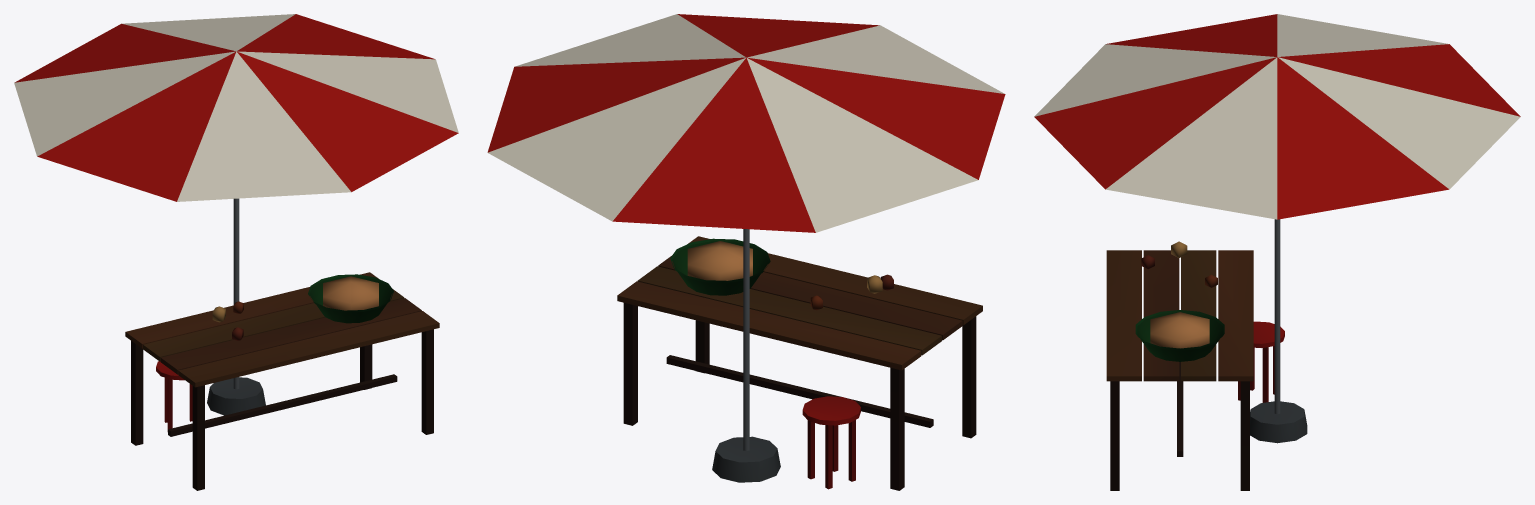
Rendered from mk_stall_umbrella_lod1.glb.
The picture shows the model from 3 angles, left to right: view 1: azimuth 30°, elevation 25°; view 2: azimuth 150°, elevation 25°; view 3: azimuth 270°, elevation 25°; orthographic projection. The views are drawn at different scales.
Visible parts, largest first — view 1: mk_stall_umbrella_lod1; view 2: mk_stall_umbrella_lod1; view 3: mk_stall_umbrella_lod1.
Part boxes in pixels (left/top/right/bottom): mk_stall_umbrella_lod1: left=14, top=14, right=458, bottom=490; mk_stall_umbrella_lod1: left=487, top=14, right=1005, bottom=490; mk_stall_umbrella_lod1: left=1034, top=14, right=1520, bottom=490.
Size of the model in its own units: 3.1 by 2.62 by 3.1.
